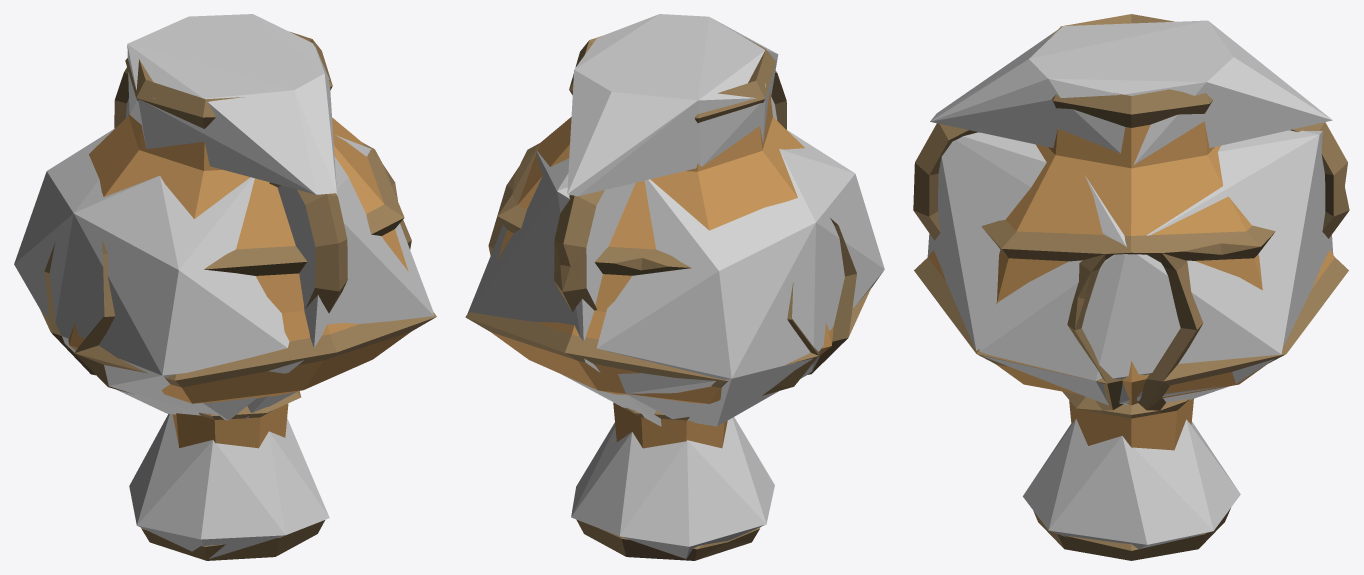
File: SM_Prop_Pot_01.fbx
3 views of the same model, side by side, from view 1: azimuth 30°, elevation 25°; view 2: azimuth 150°, elevation 25°; view 3: azimuth 270°, elevation 25° (orthographic).
Visible parts, largest first — view 1: SM_Prop_Pot_01_ConvexHulls, SM_Prop_Pot_01; view 2: SM_Prop_Pot_01_ConvexHulls, SM_Prop_Pot_01; view 3: SM_Prop_Pot_01_ConvexHulls, SM_Prop_Pot_01.
Boxes of the visible parts, left/top/right/bottom form: SM_Prop_Pot_01_ConvexHulls: left=14, top=14, right=433, bottom=558; SM_Prop_Pot_01: left=40, top=31, right=436, bottom=560; SM_Prop_Pot_01_ConvexHulls: left=467, top=14, right=884, bottom=558; SM_Prop_Pot_01: left=465, top=35, right=871, bottom=560; SM_Prop_Pot_01_ConvexHulls: left=927, top=20, right=1333, bottom=549; SM_Prop_Pot_01: left=913, top=14, right=1349, bottom=560.
Bounding box in the file's own units: 68.79 × 78.01 × 92.75.
Materials: 2 (1 with a texture image).
